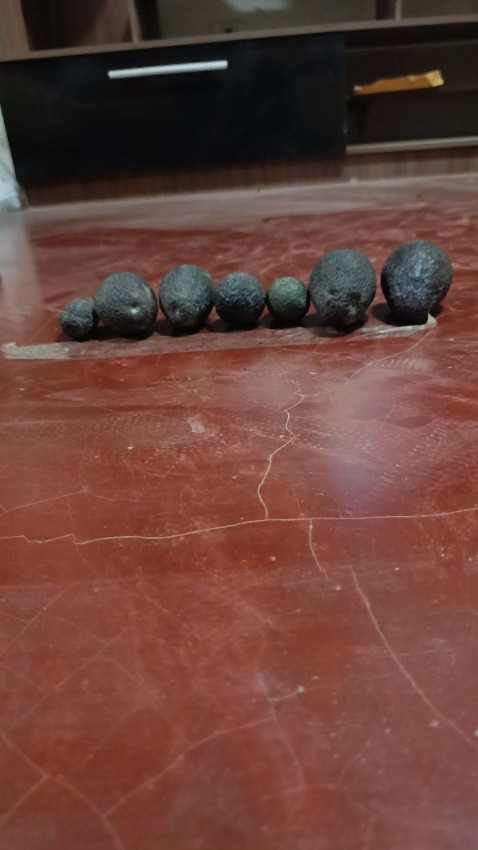Primera: (380, 239, 453, 325), (307, 248, 377, 330)
Segunda: (94, 270, 157, 337), (158, 263, 214, 333), (214, 271, 266, 328)
Tercera: (266, 275, 309, 324), (59, 297, 97, 341)
